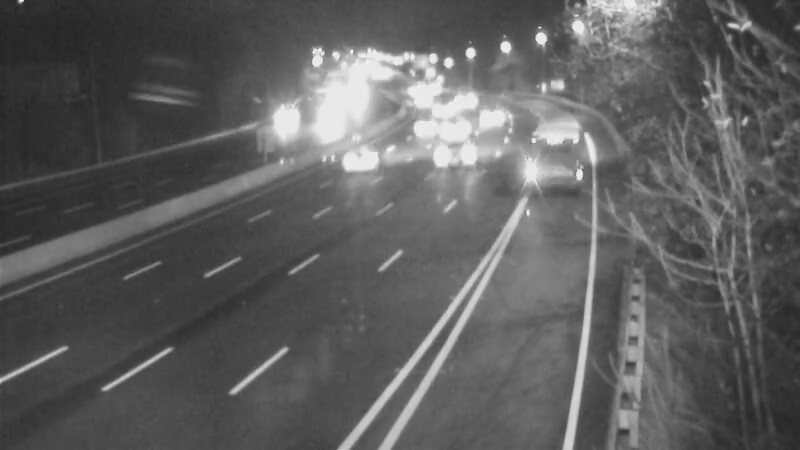vehicle: (502, 123, 582, 203), (408, 118, 488, 198), (313, 123, 393, 203), (396, 77, 446, 127), (439, 78, 489, 128), (418, 87, 468, 137), (466, 89, 516, 139), (396, 101, 446, 151), (427, 103, 477, 153), (263, 95, 313, 145)
